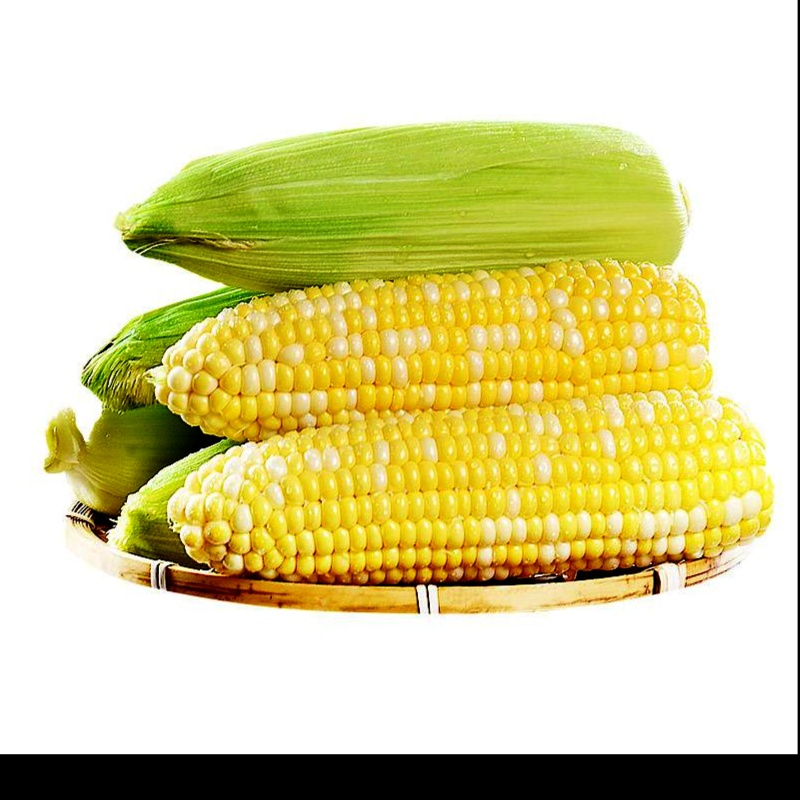corn: (152, 259, 711, 441), (190, 405, 768, 567)
corn_plant: (121, 123, 700, 268)
